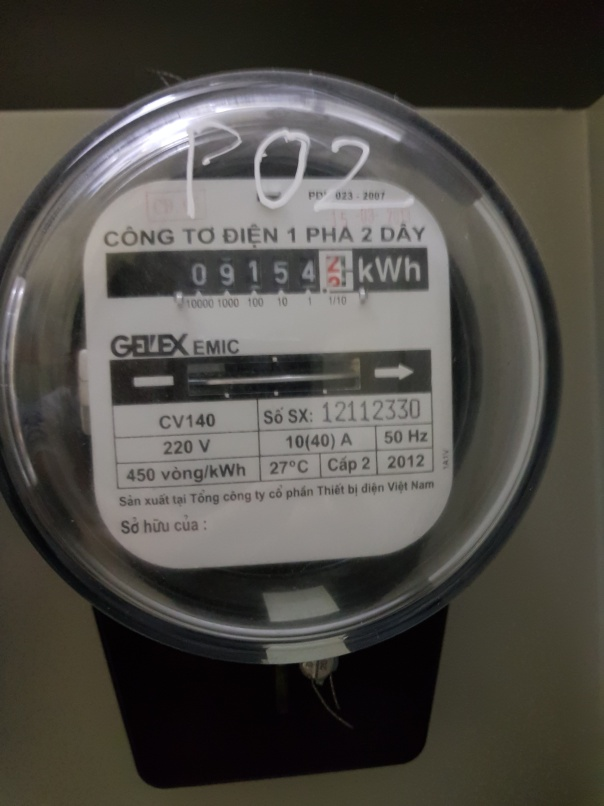counter: (104, 246, 435, 294)
electricity_meter: (2, 68, 565, 658)
